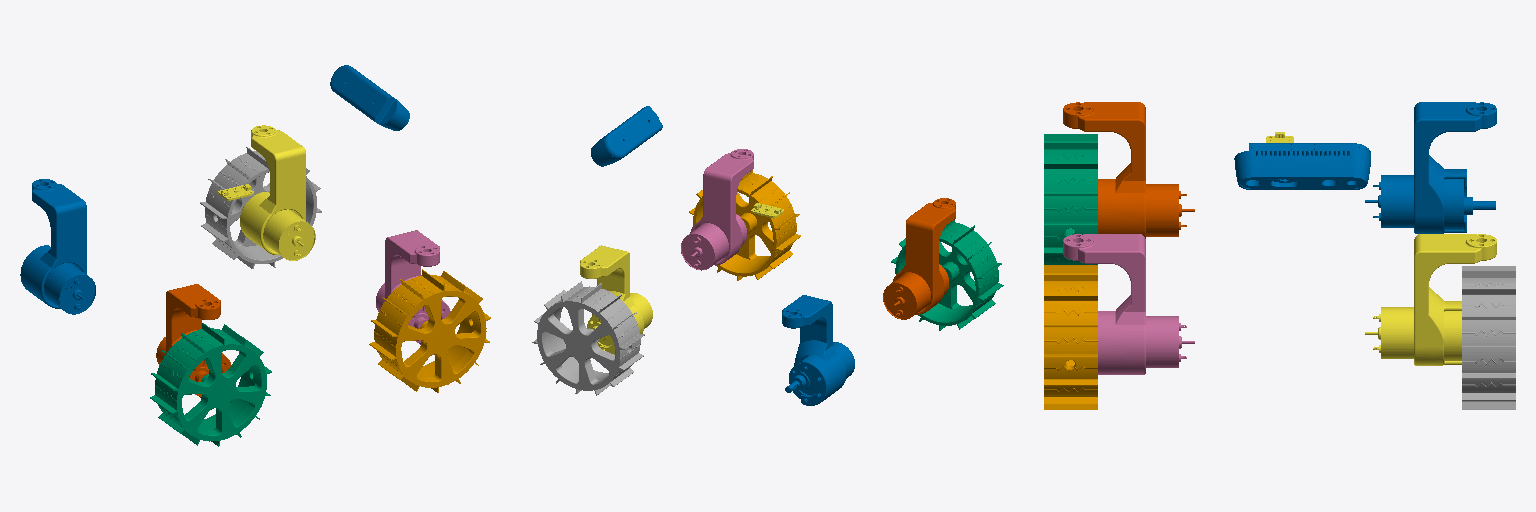
robot.urdf — rocker_bogie_4wd_rover:
<?xml version="1.0"?>
<robot name="rocker_bogie_4wd_rover">

  <!--
    설명: 2026-10-14 제공된 최신 로버 URDF의 매핑 좌표 참고 사본. 카메라 하향 20도는 사용자 확인값.
    사용법: mapping_preflight.py sensors의 urdf 인자로 이 파일을 지정한다.
    Distribution model updated from the supplied rev5 Fusion assembly and 13 STL exports.
    STL dimensions are millimetres; every mesh reference therefore uses scale 0.001.
    Zero-pose offsets are documented in docs/offset_audit.md.
  -->

  <!-- Main chassis; lid is included in this body. Camera and IMU are separate links. -->
  <link name="base_link">
    <inertial>
      <origin xyz="-0.008015853218 0.003240341788 -0.025673826811" rpy="0 0 0"/>
      <mass value="0.847900053986"/>
      <inertia ixx="0.002302831138" ixy="-0.000113581036669" ixz="0.000108137936490"
               iyy="0.004180321839" iyz="0.000015141466736" izz="0.005334787938"/>
    </inertial>
    <visual>
      <origin xyz="0 0 0" rpy="0 0 0"/>
      <geometry><mesh filename="package://rocker_bogie_4wd_rover/meshes/base_link.stl" scale="0.001 0.001 0.001"/></geometry>
    </visual>
    <collision>
      <origin xyz="0 0 0" rpy="0 0 0"/>
      <geometry><mesh filename="package://rocker_bogie_4wd_rover/meshes/base_link.stl" scale="0.001 0.001 0.001"/></geometry>
    </collision>
  </link>

  <!-- The real central bevel gear is not a separate simulated body. The passive
       right rocker mirrors the left rocker 1:1. -->
  <link name="left_rocker_arm">
    <inertial>
      <origin xyz="0.000041281766 0.055638256545 -0.022265167017" rpy="0 0 0"/>
      <mass value="0.186900033238"/>
      <inertia ixx="0.000095809929947" ixy="0.000000472580802" ixz="-0.000000167203869"
               iyy="0.001204701265" iyz="0.000027487080501" izz="0.001220632439"/>
    </inertial>
    <visual><origin xyz="0 0 0" rpy="0 0 0"/><geometry><mesh filename="package://rocker_bogie_4wd_rover/meshes/arm_l_link.stl" scale="0.001 0.001 0.001"/></geometry></visual>
    <collision><origin xyz="0 0 0" rpy="0 0 0"/><geometry><mesh filename="package://rocker_bogie_4wd_rover/meshes/arm_l_link.stl" scale="0.001 0.001 0.001"/></geometry></collision>
  </link>
  <joint name="left_rocker_joint" type="revolute">
    <parent link="base_link"/>
    <child link="left_rocker_arm"/>
    <origin xyz="-0.01830665319 0.06918739351 0" rpy="0 0 0"/>
    <axis xyz="0 1 0"/>
    <limit lower="-0.523598775598" upper="0.523598775598" effort="100" velocity="3.0"/>
    <dynamics damping="0.01"/>
  </joint>

  <!-- Right rocker arm. -->
  <link name="right_rocker_arm">
    <inertial>
      <origin xyz="0.000045263438 -0.055653675439 -0.022209589971" rpy="0 0 0"/>
      <mass value="0.186899954875"/>
      <inertia ixx="0.000095650905168" ixy="-0.000000408041754" ixz="-0.000000163472263"
               iyy="0.001202966667" iyz="-0.000027393035014" izz="0.001218553662"/>
    </inertial>
    <visual><origin xyz="0 0 0" rpy="0 0 0"/><geometry><mesh filename="package://rocker_bogie_4wd_rover/meshes/arm_r_link.stl" scale="0.001 0.001 0.001"/></geometry></visual>
    <collision><origin xyz="0 0 0" rpy="0 0 0"/><geometry><mesh filename="package://rocker_bogie_4wd_rover/meshes/arm_r_link.stl" scale="0.001 0.001 0.001"/></geometry></collision>
  </link>
  <joint name="right_rocker_joint" type="revolute">
    <parent link="base_link"/>
    <child link="right_rocker_arm"/>
    <origin xyz="-0.01830665319 -0.06918739351 0" rpy="0 0 0"/>
    <axis xyz="0 1 0"/>
    <limit lower="-0.523598775598" upper="0.523598775598" effort="100" velocity="3.0"/>
    <dynamics damping="0.01"/>
    <mimic joint="left_rocker_joint" multiplier="-1" offset="0"/>
  </joint>

  <!-- Front-left steering/leg link, using wheel_link_1 physical properties. -->
  <link name="fl_leg">
    <inertial>
      <origin xyz="0.006757812092 0.037123406320 -0.066878858232" rpy="0 0 0"/>
      <mass value="0.225299994110"/>
      <inertia ixx="0.000117798243071" ixy="-0.000000391472486" ixz="0.000005555278691"
               iyy="0.000079323177632" iyz="0.000007931530746" izz="0.000076905189285"/>
    </inertial>
    <visual><origin xyz="0 0 0" rpy="0 0 0"/><geometry><mesh filename="package://rocker_bogie_4wd_rover/meshes/wheel_link_1.stl" scale="0.001 0.001 0.001"/></geometry></visual>
    <collision><origin xyz="0 0 0" rpy="0 0 0"/><geometry><mesh filename="package://rocker_bogie_4wd_rover/meshes/wheel_link_1.stl" scale="0.001 0.001 0.001"/></geometry></collision>
  </link>
  <joint name="fl_steering_joint" type="revolute">
    <parent link="left_rocker_arm"/><child link="fl_leg"/>
    <origin xyz="0.10243139721 0.06331260649 -0.04531324865" rpy="0 0 3.14159265359"/>
    <axis xyz="0 0 -1"/><limit lower="-1.745329251994" upper="1.745329251994" effort="50" velocity="3.0"/>
  </joint>

  <!-- Rear-left steering/leg link, using wheel_link_3 physical properties. -->
  <link name="rl_leg">
    <inertial>
      <origin xyz="-0.006757812092 -0.037123406320 -0.066878858232" rpy="0 0 0"/>
      <mass value="0.225299994110"/>
      <inertia ixx="0.000117798243071" ixy="-0.000000391472486" ixz="-0.000005555278691"
               iyy="0.000079323177632" iyz="-0.000007931530746" izz="0.000076905189285"/>
    </inertial>
    <visual><origin xyz="0 0 0" rpy="0 0 0"/><geometry><mesh filename="package://rocker_bogie_4wd_rover/meshes/wheel_link_3.stl" scale="0.001 0.001 0.001"/></geometry></visual>
    <collision><origin xyz="0 0 0" rpy="0 0 0"/><geometry><mesh filename="package://rocker_bogie_4wd_rover/meshes/wheel_link_3.stl" scale="0.001 0.001 0.001"/></geometry></collision>
  </link>
  <joint name="rl_steering_joint" type="revolute">
    <parent link="left_rocker_arm"/><child link="rl_leg"/>
    <origin xyz="-0.10243139721 0.06331260649 -0.04531324865" rpy="0 0 0"/>
    <axis xyz="0 0 -1"/><limit lower="-1.745329251994" upper="1.745329251994" effort="50" velocity="3.0"/>
  </joint>

  <!-- Front-right steering/leg link, using wheel_link_2 physical properties. -->
  <link name="rr_leg">
    <inertial>
      <origin xyz="0.006757812092 0.037123406320 -0.066878858232" rpy="0 0 0"/>
      <mass value="0.225299994110"/>
      <inertia ixx="0.000117798243071" ixy="-0.000000391472486" ixz="0.000005555278691"
               iyy="0.000079323177632" iyz="0.000007931530746" izz="0.000076905189285"/>
    </inertial>
    <visual><origin xyz="0 0 0" rpy="0 0 0"/><geometry><mesh filename="package://rocker_bogie_4wd_rover/meshes/wheel_link_2.stl" scale="0.001 0.001 0.001"/></geometry></visual>
    <collision><origin xyz="0 0 0" rpy="0 0 0"/><geometry><mesh filename="package://rocker_bogie_4wd_rover/meshes/wheel_link_2.stl" scale="0.001 0.001 0.001"/></geometry></collision>
  </link>
  <joint name="rr_steering_joint" type="revolute">
    <parent link="right_rocker_arm"/><child link="fr_leg"/>
    <origin xyz="0.10243139721 -0.06331260649 -0.04531324865" rpy="0 0 3.14159265359"/>
    <axis xyz="0 0 -1"/><limit lower="-1.745329251994" upper="1.745329251994" effort="50" velocity="3.0"/>
  </joint>

  <!-- Rear-right steering/leg link, using wheel_link_4 physical properties. -->
  <link name="fr_leg">
    <inertial>
      <origin xyz="-0.006757812092 -0.037123406320 -0.066878858232" rpy="0 0 0"/>
      <mass value="0.225299994110"/>
      <inertia ixx="0.000117798243071" ixy="-0.000000391472486" ixz="-0.000005555278691"
               iyy="0.000079323177632" iyz="-0.000007931530746" izz="0.000076905189285"/>
    </inertial>
    <visual><origin xyz="0 0 0" rpy="0 0 0"/><geometry><mesh filename="package://rocker_bogie_4wd_rover/meshes/wheel_link_4.stl" scale="0.001 0.001 0.001"/></geometry></visual>
    <collision><origin xyz="0 0 0" rpy="0 0 0"/><geometry><mesh filename="package://rocker_bogie_4wd_rover/meshes/wheel_link_4.stl" scale="0.001 0.001 0.001"/></geometry></collision>
  </link>
  <joint name="fr_steering_joint" type="revolute">
    <parent link="right_rocker_arm"/><child link="rr_leg"/>
    <origin xyz="-0.10243139721 -0.06331260649 -0.04531324865" rpy="0 0 0"/>
    <axis xyz="0 0 -1"/><limit lower="-1.745329251994" upper="1.745329251994" effort="50" velocity="3.0"/>
  </joint>

  <!-- Wheels: origins at the supplied steering-to-wheel offsets; axes preserve previous URDF choice. -->
  <link name="fl_wheel">
    <inertial><origin xyz="0.000105436252 0.009184841148 0.000000044891" rpy="0 0 0"/><mass value="0.049700283757"/>
      <inertia ixx="0.000036112445366" ixy="0.000000021731779" ixz="-0.000000000038044" iyy="0.000062381899087" iyz="0.000000000021673" izz="0.000035915321601"/></inertial>
    <visual><origin xyz="0 0 0" rpy="0 0 0"/><geometry><mesh filename="package://rocker_bogie_4wd_rover/meshes/wheel_1.stl" scale="0.001 0.001 0.001"/></geometry></visual>
    <collision><origin xyz="0 0 0" rpy="0 0 0"/><geometry><mesh filename="package://rocker_bogie_4wd_rover/meshes/wheel_1.stl" scale="0.001 0.001 0.001"/></geometry></collision>
  </link>
  <joint name="fl_wheel_joint" type="continuous"><parent link="fl_leg"/><child link="fl_wheel"/><origin xyz="0 0 -0.0705" rpy="0 0 3.14159265359"/><axis xyz="0 -1 0"/></joint>

  <link name="fr_wheel">
    <inertial><origin xyz="0.000105436252 0.009184841148 0.000000044891" rpy="0 0 0"/><mass value="0.049700283757"/>
      <inertia ixx="0.000036112445366" ixy="0.000000021731779" ixz="-0.000000000038044" iyy="0.000062381899087" iyz="0.000000000021673" izz="0.000035915321601"/></inertial>
    <visual><origin xyz="0 0 0" rpy="0 0 0"/><geometry><mesh filename="package://rocker_bogie_4wd_rover/meshes/wheel_2.stl" scale="0.001 0.001 0.001"/></geometry></visual>
    <collision><origin xyz="0 0 0" rpy="0 0 0"/><geometry><mesh filename="package://rocker_bogie_4wd_rover/meshes/wheel_2.stl" scale="0.001 0.001 0.001"/></geometry></collision>
  </link>
  <joint name="fr_wheel_joint" type="continuous"><parent link="fr_leg"/><child link="fr_wheel"/><origin xyz="0 0 -0.0705" rpy="0 0 0"/><axis xyz="0 -1 0"/></joint>

  <link name="rl_wheel">
    <inertial><origin xyz="-0.000105517419 -0.009184812442 -0.000000000426" rpy="0 0 0"/><mass value="0.049700327360"/>
      <inertia ixx="0.000036112478572" ixy="0.000000021752632" ixz="-0.000000000012088" iyy="0.000062381919386" iyz="-0.000000000001085" izz="0.000035915338505"/></inertial>
    <visual><origin xyz="0 0 0" rpy="0 0 0"/><geometry><mesh filename="package://rocker_bogie_4wd_rover/meshes/wheel_3.stl" scale="0.001 0.001 0.001"/></geometry></visual>
    <collision><origin xyz="0 0 0" rpy="0 0 0"/><geometry><mesh filename="package://rocker_bogie_4wd_rover/meshes/wheel_3.stl" scale="0.001 0.001 0.001"/></geometry></collision>
  </link>
  <joint name="rl_wheel_joint" type="continuous"><parent link="rl_leg"/><child link="rl_wheel"/><origin xyz="0 0 -0.0705" rpy="0 0 3.14159265359"/><axis xyz="0 1 0"/></joint>

  <link name="rr_wheel">
    <inertial><origin xyz="-0.000105517419 -0.009184812442 -0.000000000426" rpy="0 0 0"/><mass value="0.049700327360"/>
      <inertia ixx="0.000036112478572" ixy="0.000000021752632" ixz="-0.000000000012088" iyy="0.000062381919386" iyz="-0.000000000001085" izz="0.000035915338505"/></inertial>
    <visual><origin xyz="0 0 0" rpy="0 0 0"/><geometry><mesh filename="package://rocker_bogie_4wd_rover/meshes/wheel_4.stl" scale="0.001 0.001 0.001"/></geometry></visual>
    <collision><origin xyz="0 0 0" rpy="0 0 0"/><geometry><mesh filename="package://rocker_bogie_4wd_rover/meshes/wheel_4.stl" scale="0.001 0.001 0.001"/></geometry></collision>
  </link>
  <joint name="rr_wheel_joint" type="continuous"><parent link="rr_leg"/><child link="rr_wheel"/><origin xyz="0 0 -0.0705" rpy="0 0 0"/><axis xyz="0 1 0"/></joint>

  <!-- IMU link is fixed to the chassis. The origin is the measured IMU reference point. -->
  <link name="imu_link">
    <inertial>
      <origin xyz="0.000039949849 0.000108307373 -0.002011729835" rpy="0 0 0"/>
      <mass value="0.002400000279"/>
      <inertia ixx="0.000000056092954" ixy="-0.000000000148781" ixz="-0.000000000114852"
               iyy="0.000000136628269" iyz="-0.000000000005384" izz="0.000000188602298"/>
    </inertial>
    <visual><origin xyz="0 0 0" rpy="0 0 0"/><geometry><mesh filename="package://rocker_bogie_4wd_rover/meshes/IMU.stl" scale="0.001 0.001 0.001"/></geometry></visual>
    <collision><origin xyz="0 0 0" rpy="0 0 0"/><geometry><mesh filename="package://rocker_bogie_4wd_rover/meshes/IMU.stl" scale="0.001 0.001 0.001"/></geometry></collision>
  </link>
  <joint name="base_to_imu" type="fixed">
    <parent link="base_link"/><child link="imu_link"/>
    <origin xyz="-0.01800665319 0 -0.021473" rpy="0 0 0"/>
  </joint>

  <!-- Camera assembly, pitched 20 degrees about +Y at the CAD mount origin. -->
  <link name="camera_link">
    <inertial>
      <origin xyz="-0.011811875567 0.008683428205 0.004231746168" rpy="0 0 0"/>
      <mass value="0.073299981594"/>
      <inertia ixx="0.000045771873705" ixy="0.000000388879236" ixz="0.000000069330944"
               iyy="0.000006626435639" iyz="-0.000000147048200" izz="0.000045944278179"/>
    </inertial>
    <visual><origin xyz="0 0 0" rpy="0 0 0"/><geometry><mesh filename="package://rocker_bogie_4wd_rover/meshes/Camera.stl" scale="0.001 0.001 0.001"/></geometry></visual>
    <collision><origin xyz="0 0 0" rpy="0 0 0"/><geometry><mesh filename="package://rocker_bogie_4wd_rover/meshes/Camera.stl" scale="0.001 0.001 0.001"/></geometry></collision>
  </link>
  <joint name="base_to_camera" type="fixed">
    <parent link="base_link"/><child link="camera_link"/>
    <origin xyz="0.12498574268 0.00747451631 0.01521787607" rpy="0 0.349066 0"/>
  </joint>

  <!-- Stereo optical frames (baseline 50 mm): X right, Y down, Z forward. Assumes camera_link X points along lens-forward.
       Left camera is at camera_link +Y 17.5 mm, right camera at -Y 32.5 mm. -->
  <link name="camera_left_optical_frame"/>
  <joint name="camera_to_left_optical_frame" type="fixed">
    <parent link="camera_link"/><child link="camera_left_optical_frame"/>
    <origin xyz="0 0.0175 0" rpy="-1.570796326795 0 -1.570796326795"/>
  </joint>

  <link name="camera_right_optical_frame"/>
  <joint name="camera_to_right_optical_frame" type="fixed">
    <parent link="camera_link"/><child link="camera_right_optical_frame"/>
    <origin xyz="0 -0.0325 0" rpy="-1.570796326795 0 -1.570796326795"/>
  </joint>

</robot>

--- What the picture shows (computed from the rendered views, not written in the file) ---
Views: 3 orthographic renders of the robot side by side, from view 1: azimuth 30°, elevation 25°; view 2: azimuth 150°, elevation 25°; view 3: azimuth 270°, elevation 25°.
Model rocker_bogie_4wd_rover with 15 links and 14 joints (6 revolute, 4 continuous, 4 fixed), rooted at base_link, posed all joints at 0.
Visible links, largest first — view 1: rr_wheel, fr_wheel, rl_leg, fl_leg, fl_wheel, fr_leg, rr_leg, camera_link; view 2: fl_wheel, rl_leg, rr_wheel, fr_leg, rr_leg, fr_wheel, fl_leg, camera_link; view 3: rl_leg, fr_leg, fl_leg, rr_leg, fr_wheel, fl_wheel, rr_wheel, camera_link.
Link boxes in pixels (x1,y1,x2,y2): rr_wheel: (150, 323, 271, 446); fr_wheel: (369, 269, 490, 392); rl_leg: (20, 179, 95, 314); fl_leg: (240, 125, 315, 260); fl_wheel: (200, 147, 321, 268); fr_leg: (376, 230, 450, 344); rr_leg: (156, 284, 230, 397); camera_link: (330, 65, 409, 130); fl_wheel: (532, 281, 644, 395); rl_leg: (782, 295, 854, 405); rr_wheel: (891, 220, 1003, 330); fr_leg: (681, 149, 753, 270); rr_leg: (883, 198, 955, 319); fr_wheel: (689, 170, 800, 280); fl_leg: (580, 245, 652, 354); camera_link: (591, 106, 662, 166); rl_leg: (1365, 102, 1496, 233); fr_leg: (1063, 234, 1194, 374); fl_leg: (1365, 234, 1496, 365); rr_leg: (1063, 102, 1194, 238); fr_wheel: (1044, 265, 1097, 409); fl_wheel: (1462, 266, 1515, 409); rr_wheel: (1044, 134, 1097, 264); camera_link: (1234, 143, 1370, 189).
Size in the robot's own frame: 0.2994 by 0.3094 by 0.2024 metres.
9 mesh visuals loaded from 13 distinct referenced files (9 binary STL); not drawn: 4 (reference not matched to a file when rendering).
